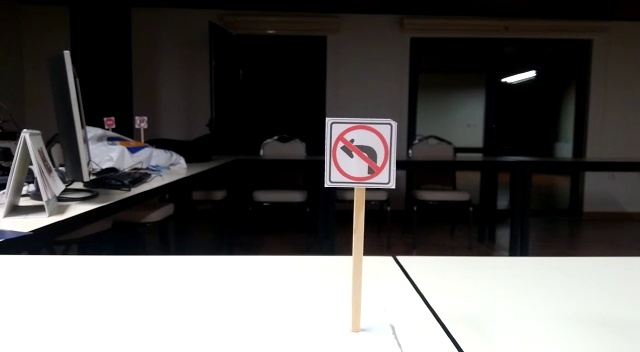sola_donulmez: (327, 128, 390, 187)
